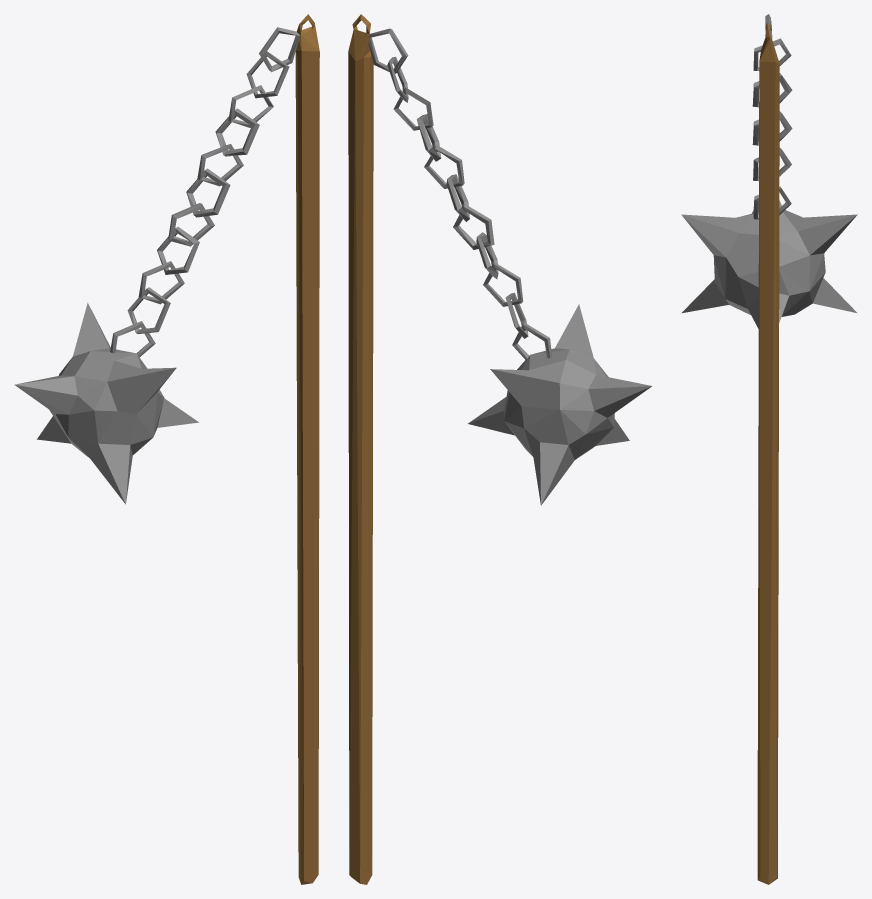
Rendered from Flail.fbx.
The picture shows the model from 3 angles, left to right: view 1: azimuth 30°, elevation 25°; view 2: azimuth 150°, elevation 25°; view 3: azimuth 270°, elevation 25°; orthographic projection.
Visible parts, largest first — view 1: Flail; view 2: Flail; view 3: Flail.
Boxes of the visible parts, box(x1,y1,x2,y2) form: Flail: box(14, 14, 319, 884); Flail: box(348, 14, 651, 884); Flail: box(681, 14, 857, 884).
Size of the model in its own units: 44.32 by 122 by 22.64.
